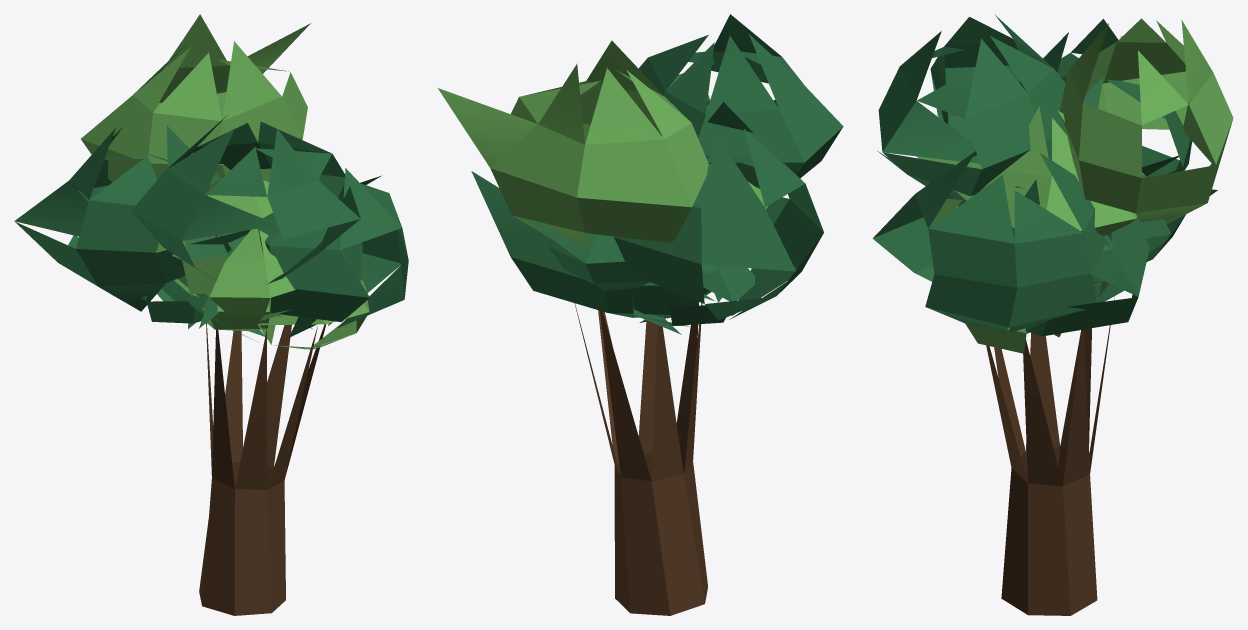
Rendered from tree_d_lod1.glb.
3 views of the same model, side by side, from view 1: azimuth 30°, elevation 25°; view 2: azimuth 150°, elevation 25°; view 3: azimuth 270°, elevation 25° (orthographic). The views are drawn at different scales.
Visible parts, largest first — view 1: TREE_D; view 2: TREE_D; view 3: TREE_D.
Part boxes in pixels (x1,y1,x2,y2): TREE_D: (14, 14, 408, 615); TREE_D: (438, 14, 843, 615); TREE_D: (872, 15, 1233, 615).
Bounding box in the file's own units: 4.12 × 6.33 × 3.52.
